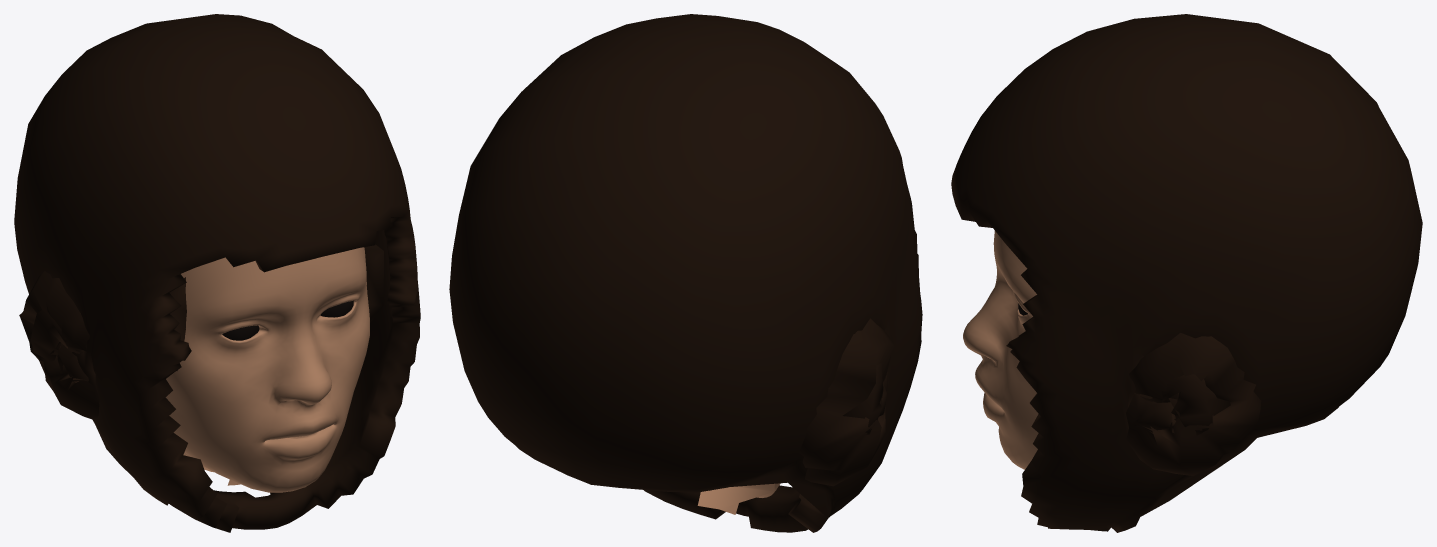
Rendered from SM_Part_F1_head.gltf.
The picture shows the model from 3 angles, left to right: view 1: azimuth 30°, elevation 25°; view 2: azimuth 150°, elevation 25°; view 3: azimuth 270°, elevation 25°; orthographic projection. The views are drawn at different scales.
Parts seen in each view (by area): view 1: SM_Part_F1_head; view 2: SM_Part_F1_head; view 3: SM_Part_F1_head.
Part boxes in pixels (x1,y1,x2,y2): SM_Part_F1_head: (14, 14, 420, 532); SM_Part_F1_head: (449, 14, 922, 532); SM_Part_F1_head: (951, 14, 1422, 532).
Bounding box in the file's own units: 0.2108 × 0.2515 × 0.225.
